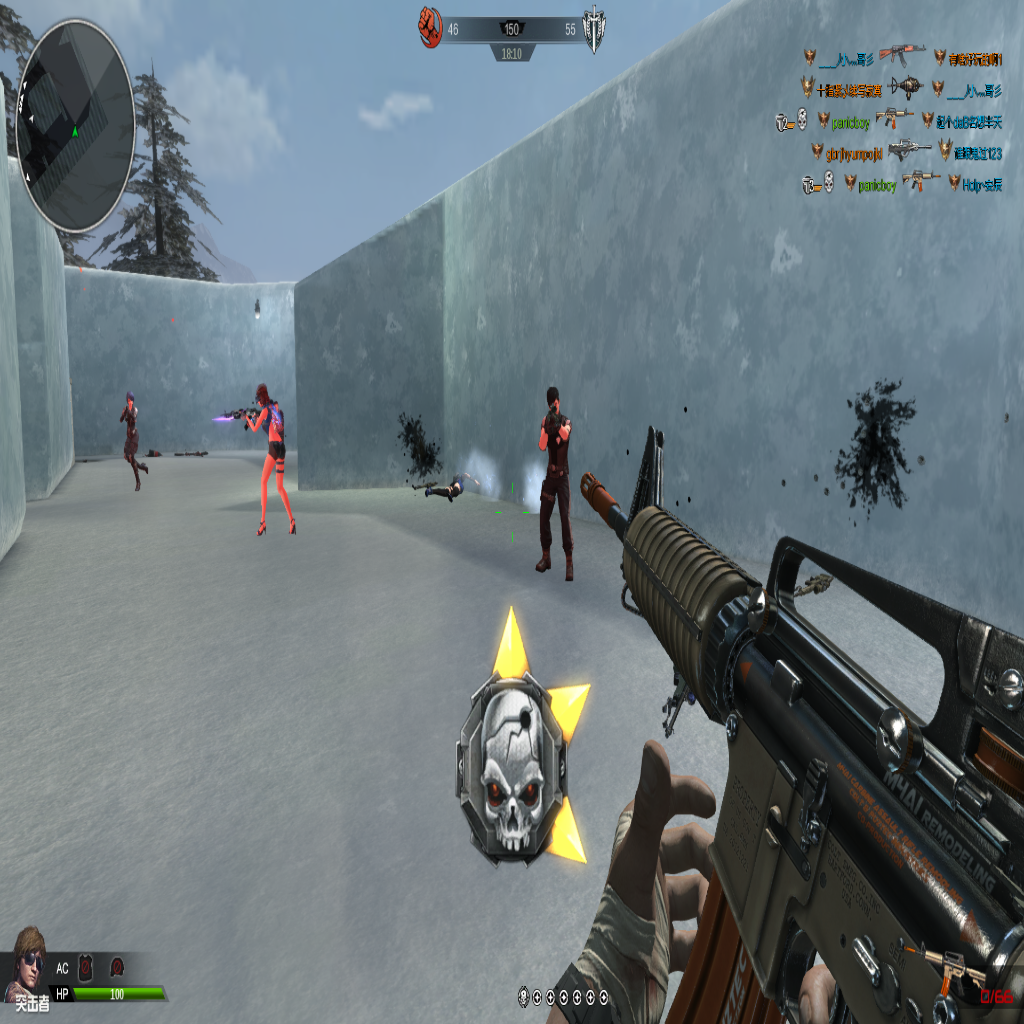ct: (244, 383, 294, 540), (537, 384, 574, 577), (118, 389, 145, 492)
